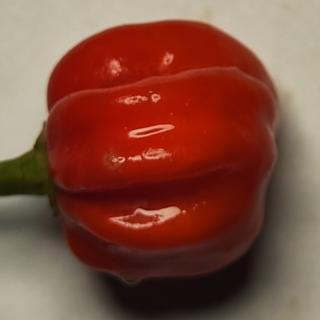Grade-B: (38, 12, 286, 286)
